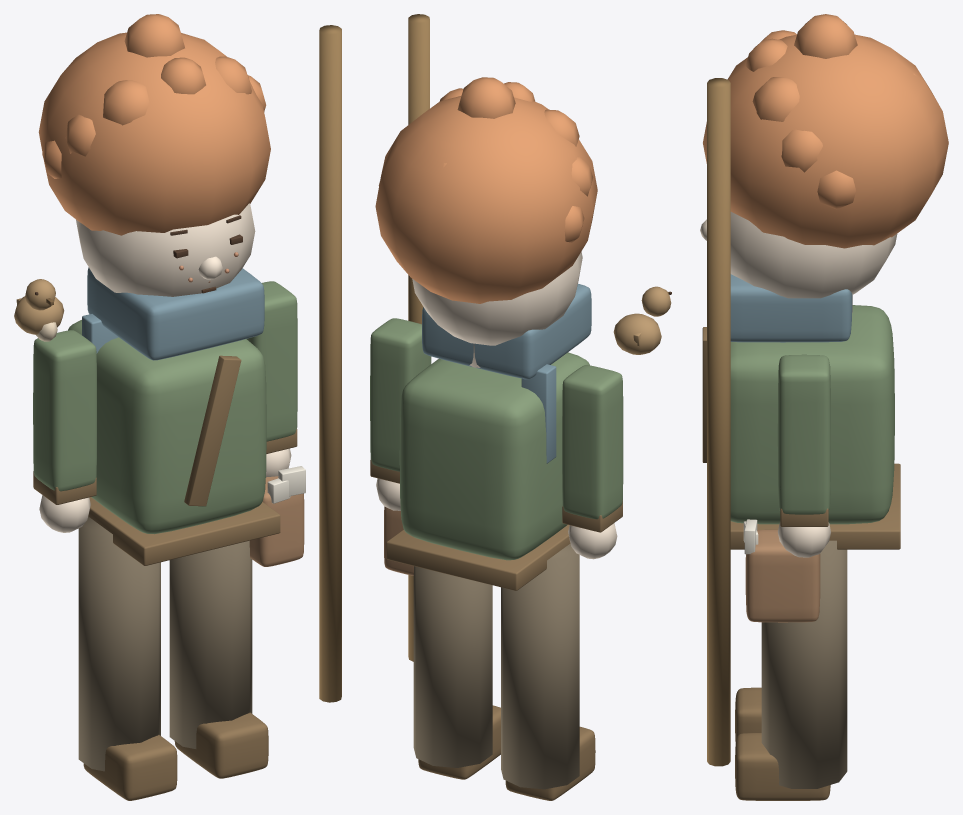
The model's file is npc_cricket_v3.glb.
3 views of the same model, side by side, from view 1: azimuth 30°, elevation 25°; view 2: azimuth 150°, elevation 25°; view 3: azimuth 270°, elevation 25° (orthographic). The views are drawn at different scales.
Parts seen in each view (by area): view 1: Hair_Dome, Tunic_Body, Trousers_L, Stick_Haft, Trousers_R, Scarf_Front, Head_Mesh, Sleeve_L, Belt, Sleeve_R, Boot_R, Boot_L (+14 smaller); view 2: Hair_Dome, Tunic_Body, Trousers_L, Trousers_R, Sleeve_L, Scarf_Front, Head_Mesh, Sleeve_R, Belt, Stick_Haft, Hair_ruffle_curl_8, Scarf_Tail (+11 smaller); view 3: Hair_Dome, Tunic_Body, Stick_Haft, Trousers_R, Sleeve_R, Head_Mesh, Scarf_Front, Pouch_R, Boot_R, Belt, Hair_ruffle_curl_8, Hair_ruffle_curl_1 (+7 smaller).
Boxes of the visible parts, x1,y1,x2,y2 form: Hair_Dome: [38, 32, 270, 235]; Tunic_Body: [68, 320, 266, 534]; Trousers_L: [78, 516, 160, 771]; Stick_Haft: [319, 25, 341, 702]; Trousers_R: [169, 540, 252, 748]; Scarf_Front: [87, 267, 264, 360]; Head_Mesh: [76, 203, 255, 296]; Sleeve_L: [33, 330, 96, 491]; Belt: [88, 497, 280, 565]; Sleeve_R: [247, 281, 297, 441]; Boot_R: [174, 712, 268, 778]; Boot_L: [83, 735, 177, 800]; Hair_Dome: [375, 95, 597, 303]; Tunic_Body: [399, 352, 589, 560]; Trousers_L: [501, 543, 579, 789]; Trousers_R: [413, 566, 492, 767]; Sleeve_L: [562, 365, 623, 519]; Scarf_Front: [422, 283, 591, 379]; Head_Mesh: [412, 251, 582, 345]; Sleeve_R: [370, 318, 431, 471]; Belt: [386, 525, 570, 590]; Stick_Haft: [408, 14, 429, 661]; Hair_ruffle_curl_8: [457, 77, 515, 118]; Scarf_Tail: [521, 364, 556, 463]; Hair_Dome: [703, 34, 948, 248]; Tunic_Body: [730, 305, 894, 524]; Stick_Haft: [707, 78, 730, 766]; Trousers_R: [761, 540, 847, 788]; Sleeve_R: [777, 354, 830, 514]; Head_Mesh: [730, 212, 897, 298]; Scarf_Front: [730, 274, 852, 342]; Pouch_R: [745, 529, 820, 622]; Boot_R: [735, 733, 830, 800]; Belt: [730, 463, 900, 549]; Hair_ruffle_curl_8: [794, 14, 857, 58]; Hair_ruffle_curl_1: [752, 77, 799, 121].
Size of the model in its own units: 0.6395 by 1.55 by 0.465.
